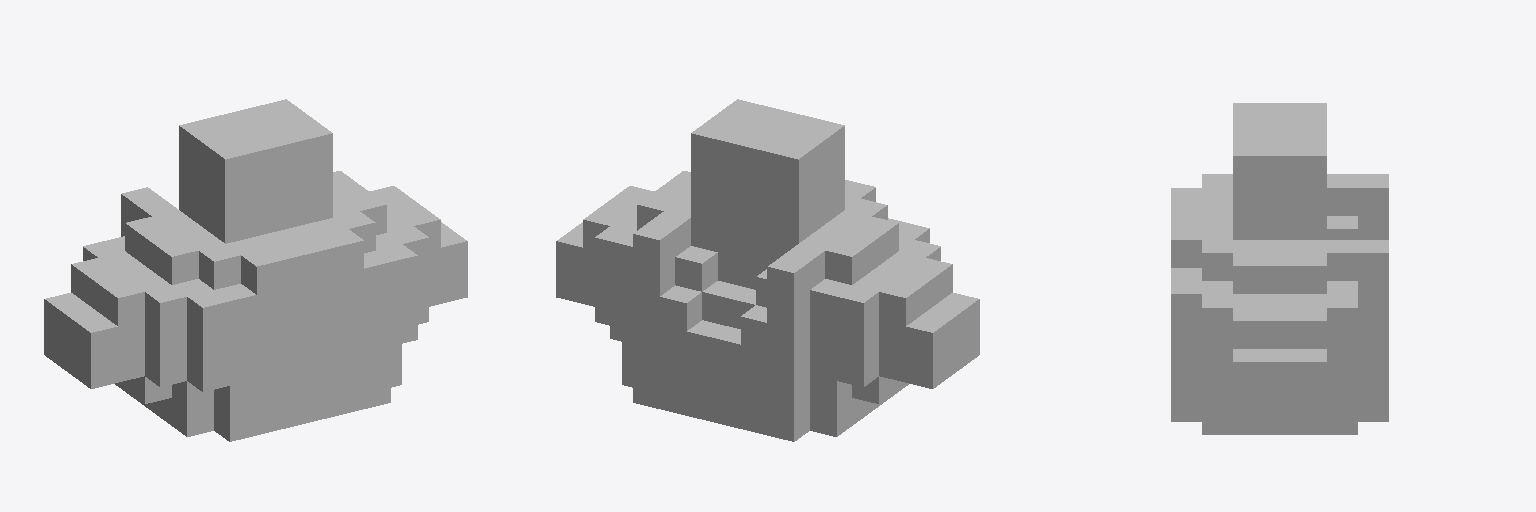
File: chest.obj
The picture shows the model from 3 angles: view 1: azimuth 30°, elevation 25°; view 2: azimuth 150°, elevation 25°; view 3: azimuth 270°, elevation 25°; orthographic projection.
Visible parts, largest first — view 1: object 1; view 2: object 1; view 3: object 1.
Boxes of the visible parts, box(x1,y1,x2,y2) form: object 1: box(44, 99, 467, 441); object 1: box(556, 99, 979, 441); object 1: box(1171, 103, 1388, 434).
Bounding box in the file's own units: 1.4 × 0.9 × 0.7.